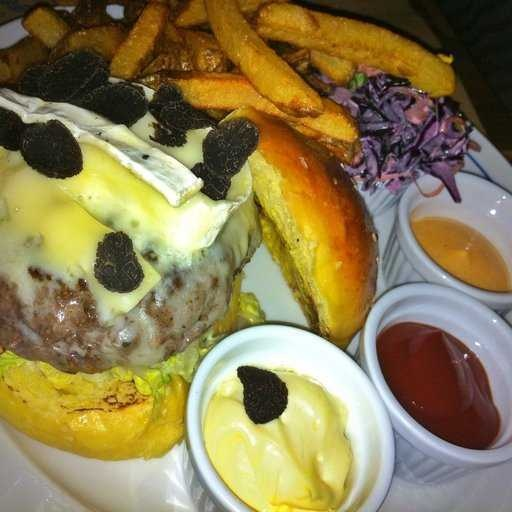hamburger: (1, 81, 265, 451)
